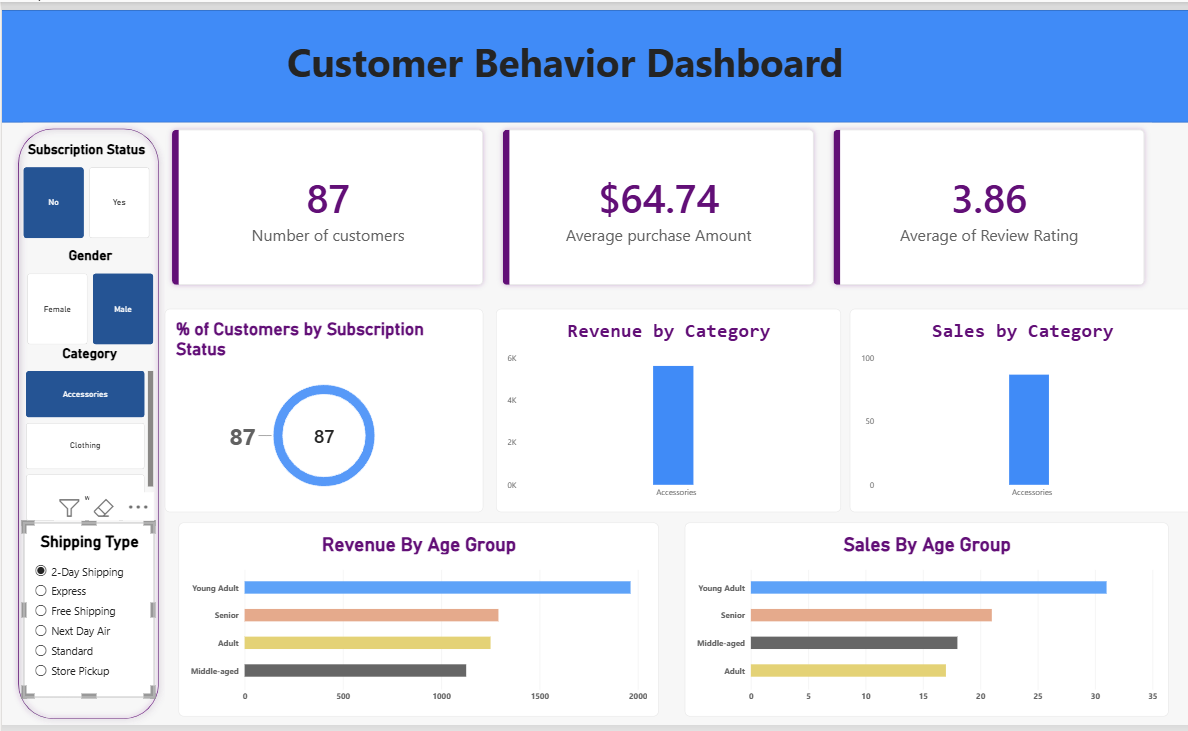

The dashboard page shown, as its layout file describes it:
{"tool":"powerbi","page":{"name":"Page 1","canvas":[1920,1080],"ordinal":0},"visuals":[{"type":"cardVisual","fields":{"Data":["public customer.Number of customers","public customer.Average purchase Amount","public customer.Average of Review Rating"]},"box":[345.3,169.8,1490.6,256.6],"z":0},{"type":"shape","box":[0,0,1900,169.8],"z":1000},{"type":"textbox","box":[0,37.7,1900,98.1],"z":2000},{"type":"donutChart","title":"% of Customers by Subscription Status","fields":{"Category":["public customer.subscription_status"],"Y":["CountNonNull(public customer.customer_id)"]},"box":[345.3,450.9,481.1,307.5],"z":3000},{"type":"clusteredColumnChart","title":"Revenue by Category","fields":{"Category":["public customer.category"],"Y":["Sum(public customer.purchase_amount)"]},"box":[845.3,450.9,520.8,307.5],"z":4000},{"type":"clusteredColumnChart","title":"Sales by Category","fields":{"Category":["public customer.category"],"Y":["CountNonNull(public customer.customer_id)"]},"box":[1379.2,450.9,520.8,307.5],"z":5000},{"type":"shape","box":[115.1,169.8,230.2,909.4],"z":6000},{"type":"advancedSlicerVisual","title":"Gender","fields":{"Values":["public customer.gender"]},"box":[137.7,358.5,190.6,147.2],"z":7000},{"type":"advancedSlicerVisual","title":"Category","fields":{"Values":["public customer.category"]},"box":[135.8,505.7,192.5,267.9],"z":8000},{"type":"listSlicer","title":"Shipping Type","fields":{"Values":["public customer.shipping_type"]},"box":[132.1,773.6,198.1,264.2],"z":9000},{"type":"clusteredBarChart","title":"Revenue By Age Group","fields":{"Category":["public customer.age_group"],"Y":["Sum(public customer.purchase_amount)"]},"box":[366,773.6,724.5,292.5],"z":10000},{"type":"advancedSlicerVisual","title":"Subscription Status","fields":{"Values":["public customer.subscription_status"]},"box":[132.1,198.1,190.6,147.2],"z":11001},{"type":"clusteredBarChart","title":"Sales By Age Group","fields":{"Category":["public customer.age_group"],"Y":["CountNonNull(public customer.customer_id)"]},"box":[1130.2,773.6,730.2,292.5],"z":11002}]}

Visuals, with their boxes on the page's 1920x1080 design canvas (x1, y1, x2, y2). These are canvas units, not pixel positions in the 1188x731 screenshot, which may show the page scaled, cropped or inside an application window:
cardVisual - public customer.Number of customers x public customer.Average purchase Amount: (left=345, top=170, right=1836, bottom=426)
shape: (left=0, top=0, right=1900, bottom=170)
textbox: (left=0, top=38, right=1900, bottom=136)
"% of Customers by Subscription Status" donutChart: (left=345, top=451, right=826, bottom=758)
"Revenue by Category" clusteredColumnChart: (left=845, top=451, right=1366, bottom=758)
"Sales by Category" clusteredColumnChart: (left=1379, top=451, right=1900, bottom=758)
shape: (left=115, top=170, right=345, bottom=1079)
"Gender" advancedSlicerVisual: (left=138, top=358, right=328, bottom=506)
"Category" advancedSlicerVisual: (left=136, top=506, right=328, bottom=774)
"Shipping Type" listSlicer: (left=132, top=774, right=330, bottom=1038)
"Revenue By Age Group" clusteredBarChart: (left=366, top=774, right=1090, bottom=1066)
"Subscription Status" advancedSlicerVisual: (left=132, top=198, right=323, bottom=345)
"Sales By Age Group" clusteredBarChart: (left=1130, top=774, right=1860, bottom=1066)
